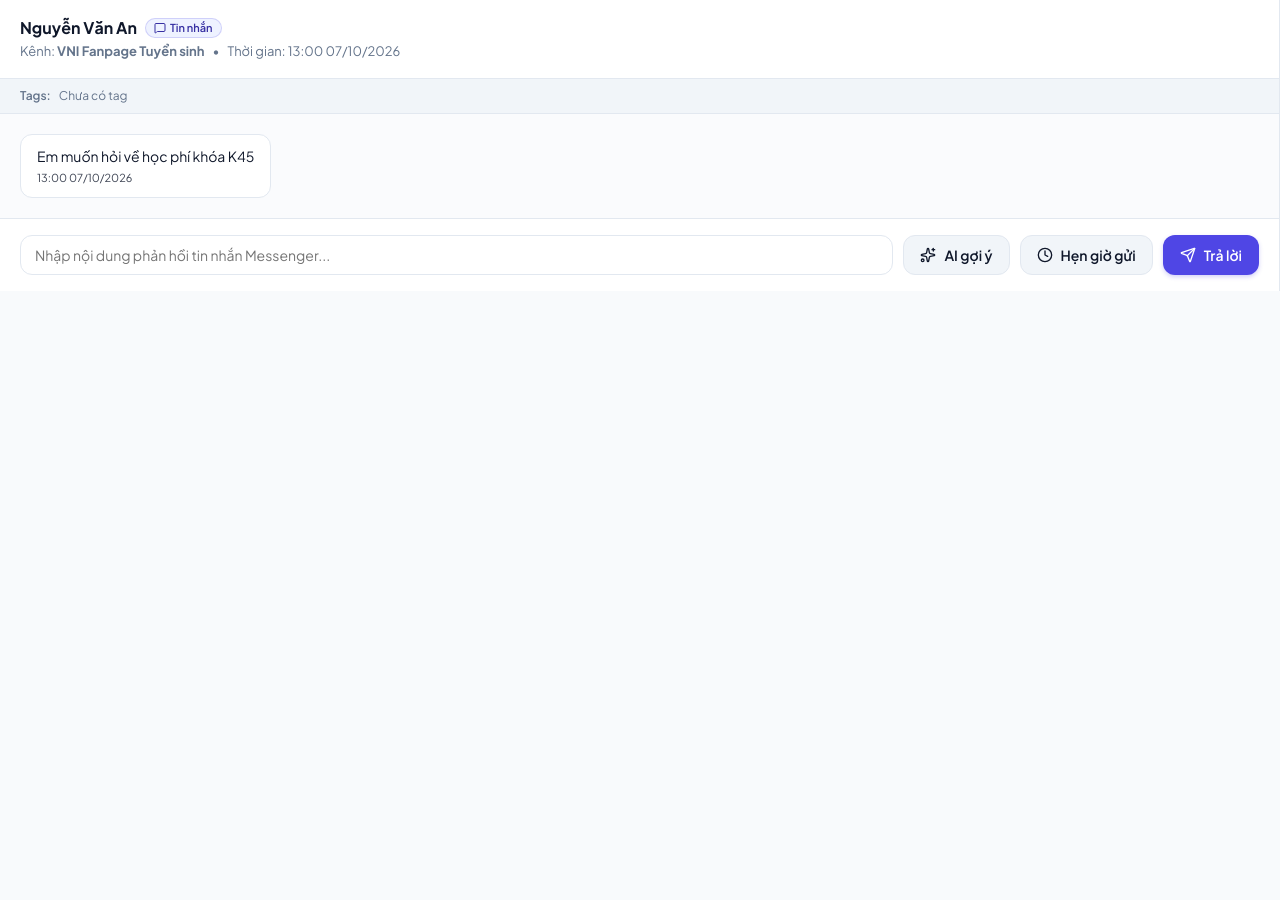
Scenario: Requirement 47c67ee0, AC dc3224c7 (a)-(d) — Hẹn giờ gửi tin nhắn Messenger › AC dc3224c7 (b) — Popover hẹn giờ, gợi ý +1h và kiểm tra cửa sổ 24h › giờ chọn vượt quá cửa sổ 24h đóng → nút xác nhận bị khoá và hiện "Cửa sổ 24h đóng lúc …"
This screenshot has width=1280, height=900.
Step 1. Type "Tin nhắn gửi muộn" into the field with test id "reply-input" → (457, 256), box x1=20 y1=236 x2=893 y2=276
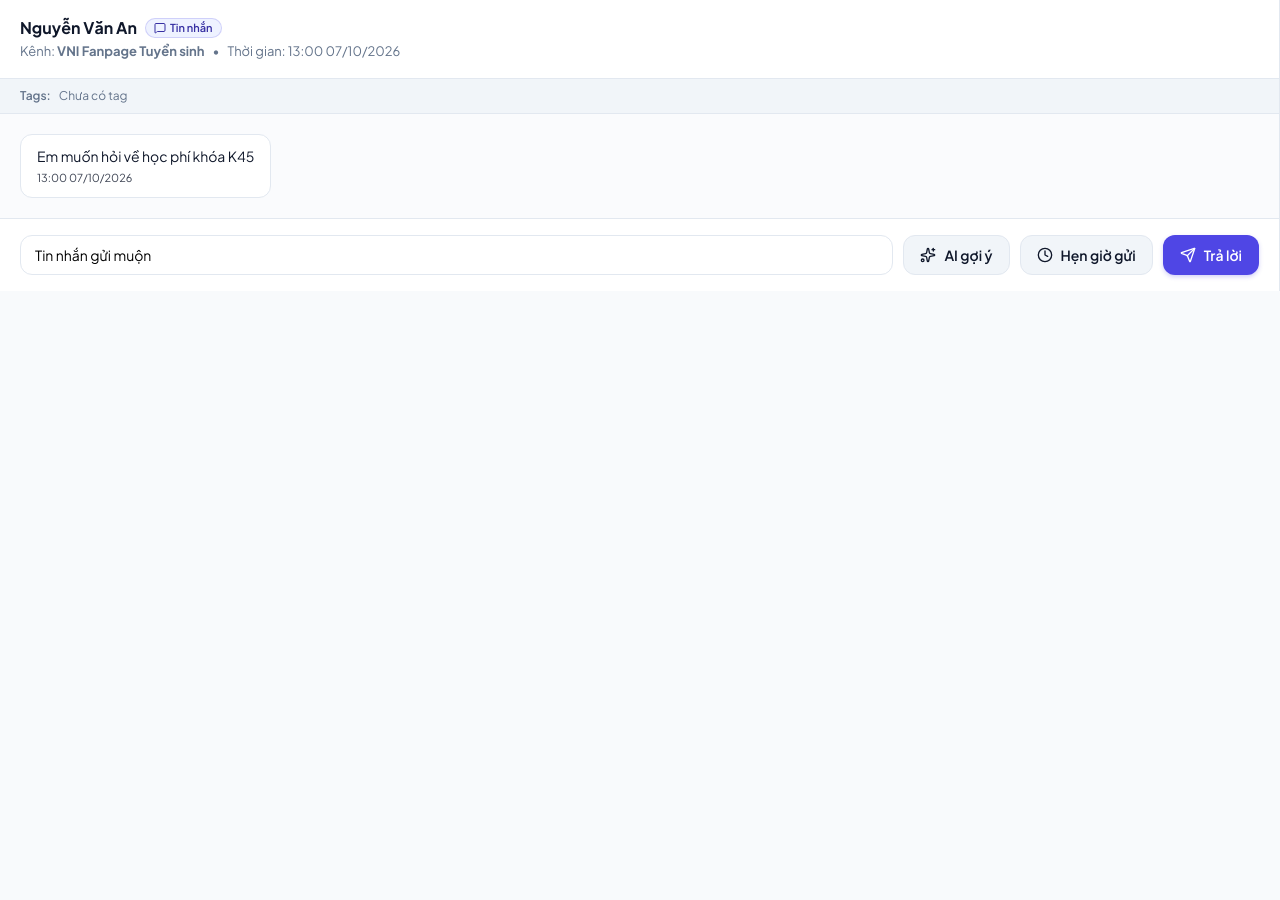
Step 2. Click the button with test id "btn-schedule-send" → (1086, 256), box x1=1020 y1=236 x2=1153 y2=276
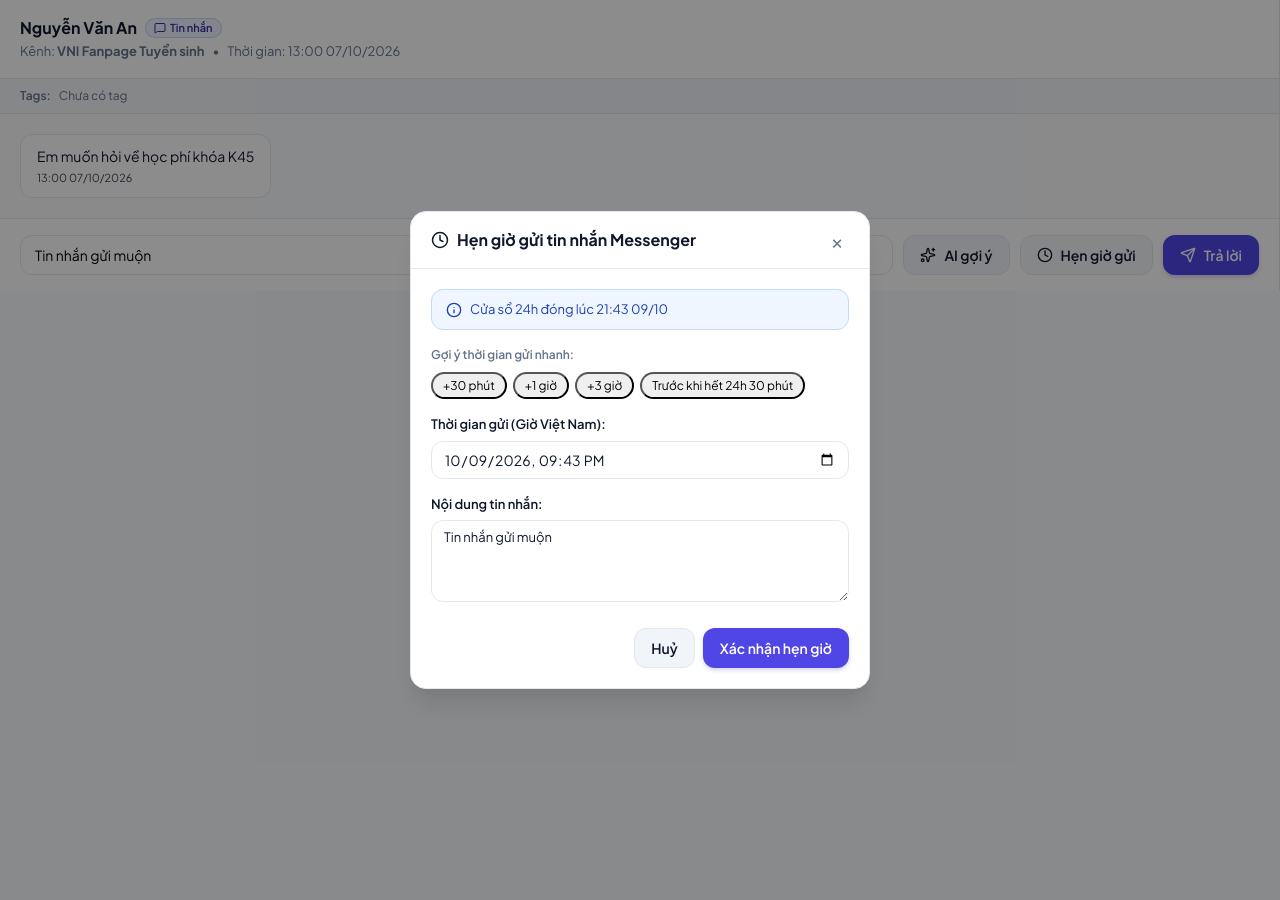
// Click "+3 giờ" (which exceeds 1h window)
Step 3. Click the button with test id "quick-schedule-3h" → (605, 386), box x1=575 y1=372 x2=634 y2=399
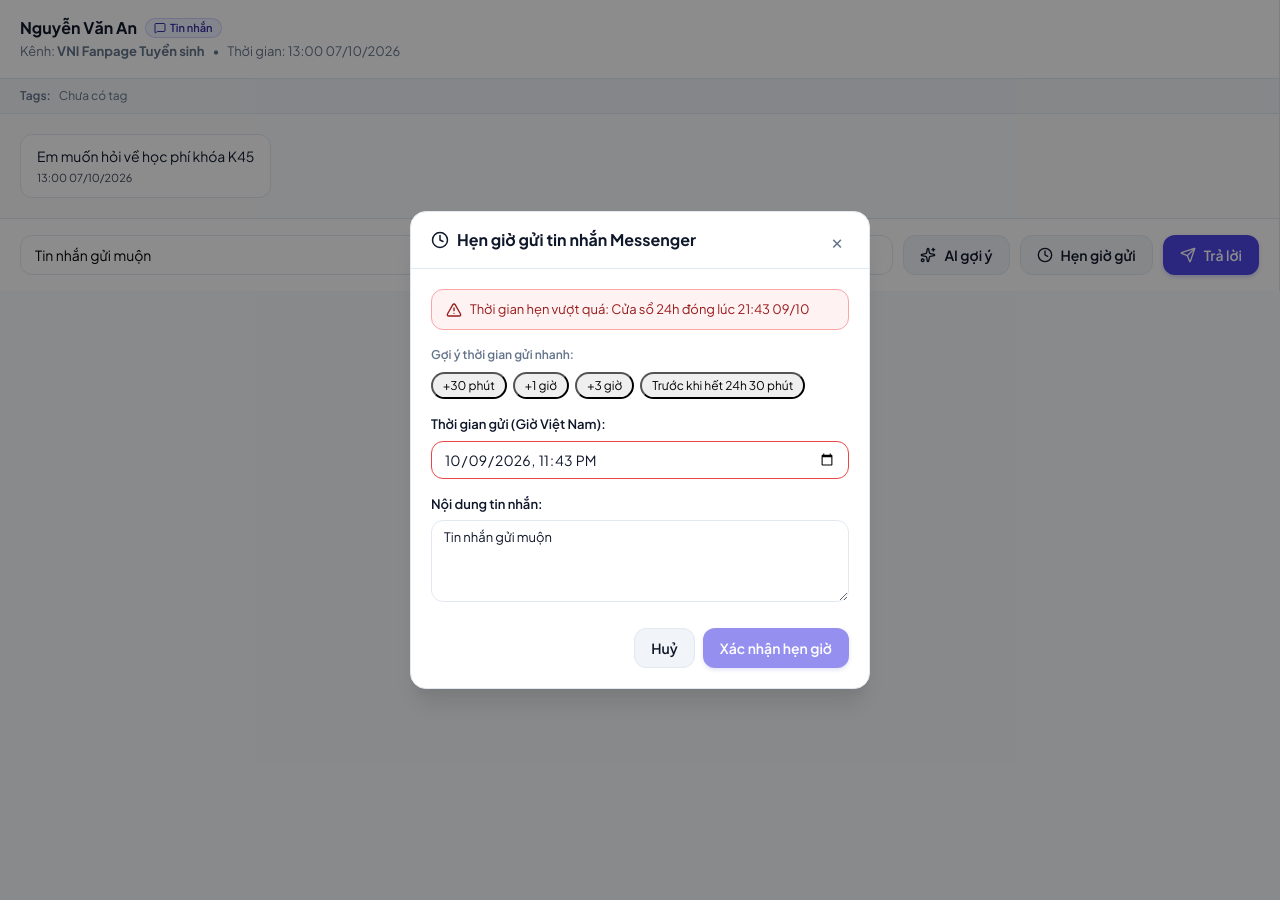
Expected: the element with test id "schedule-window-info" shows "Cửa sổ 24h đóng lúc", x1=470 y1=301 x2=809 y2=317
Expected: the button with test id "btn-confirm-schedule" is disabled, x1=703 y1=628 x2=849 y2=668
